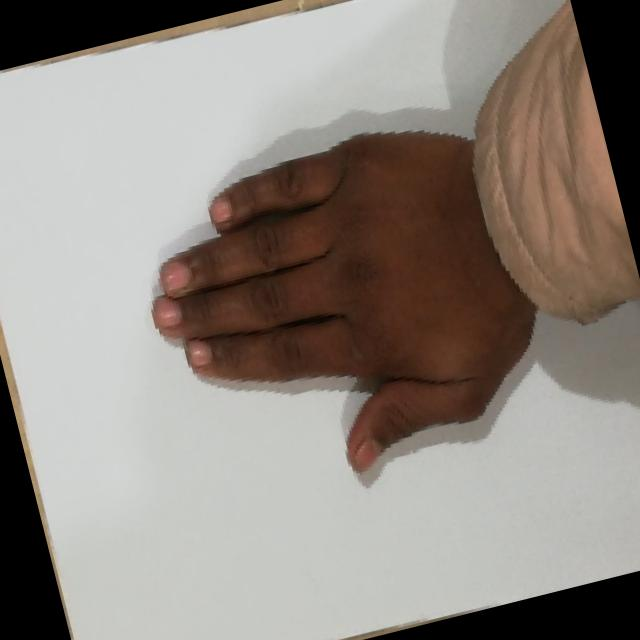Nail: (160, 259, 190, 294), (152, 296, 182, 329), (349, 440, 378, 471), (186, 338, 212, 367), (209, 196, 231, 225)
